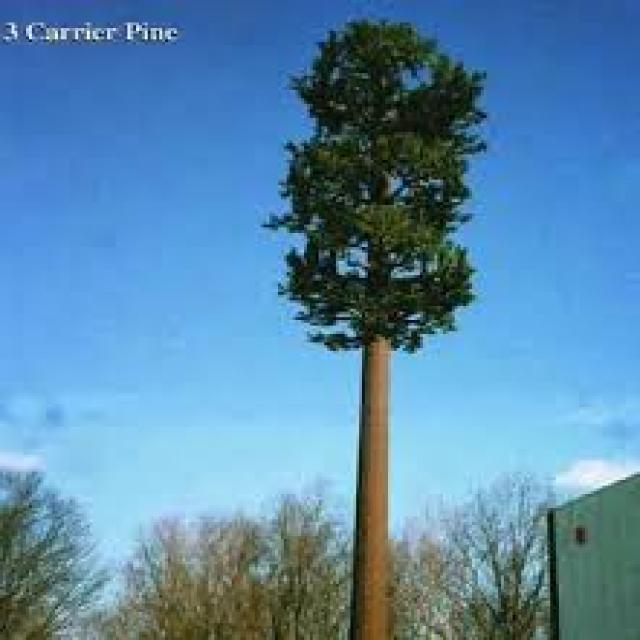sanaoubar: (303, 16, 465, 360)
